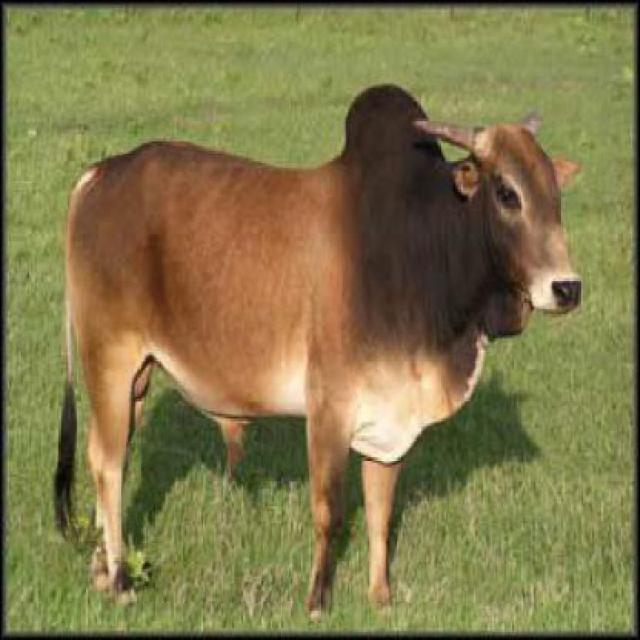Cow: (48, 80, 583, 626)
